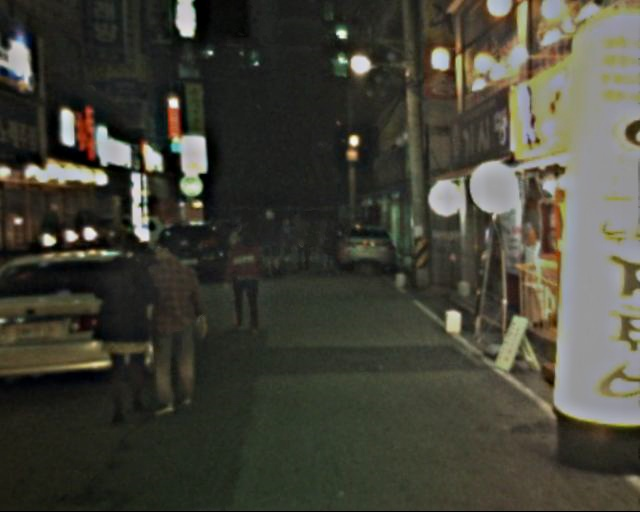person: (143, 228, 212, 421), (91, 229, 157, 425), (223, 222, 267, 333), (258, 202, 289, 281), (230, 216, 262, 288), (288, 212, 311, 280), (314, 215, 337, 277)
